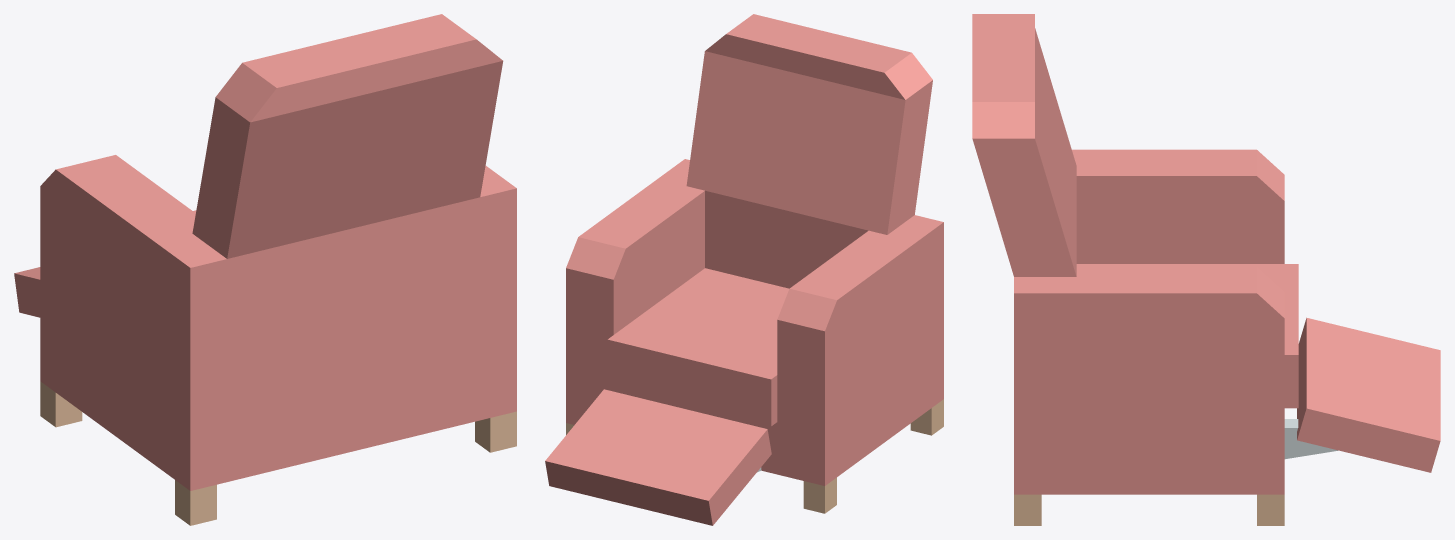
File: loungeChairRelax.gltf
3 views of the same model, side by side, from view 1: azimuth 30°, elevation 25°; view 2: azimuth 150°, elevation 25°; view 3: azimuth 270°, elevation 25° (orthographic). The views are drawn at different scales.
Parts seen in each view (by area): view 1: loungeChairRelax; view 2: loungeChairRelax; view 3: loungeChairRelax.
Part boxes in pixels (bbox=[...]): loungeChairRelax: bbox=[14, 14, 516, 525]; loungeChairRelax: bbox=[545, 14, 943, 525]; loungeChairRelax: bbox=[972, 14, 1440, 525].
Size of the model in its own units: 4.9 by 6.3 by 6.75.
